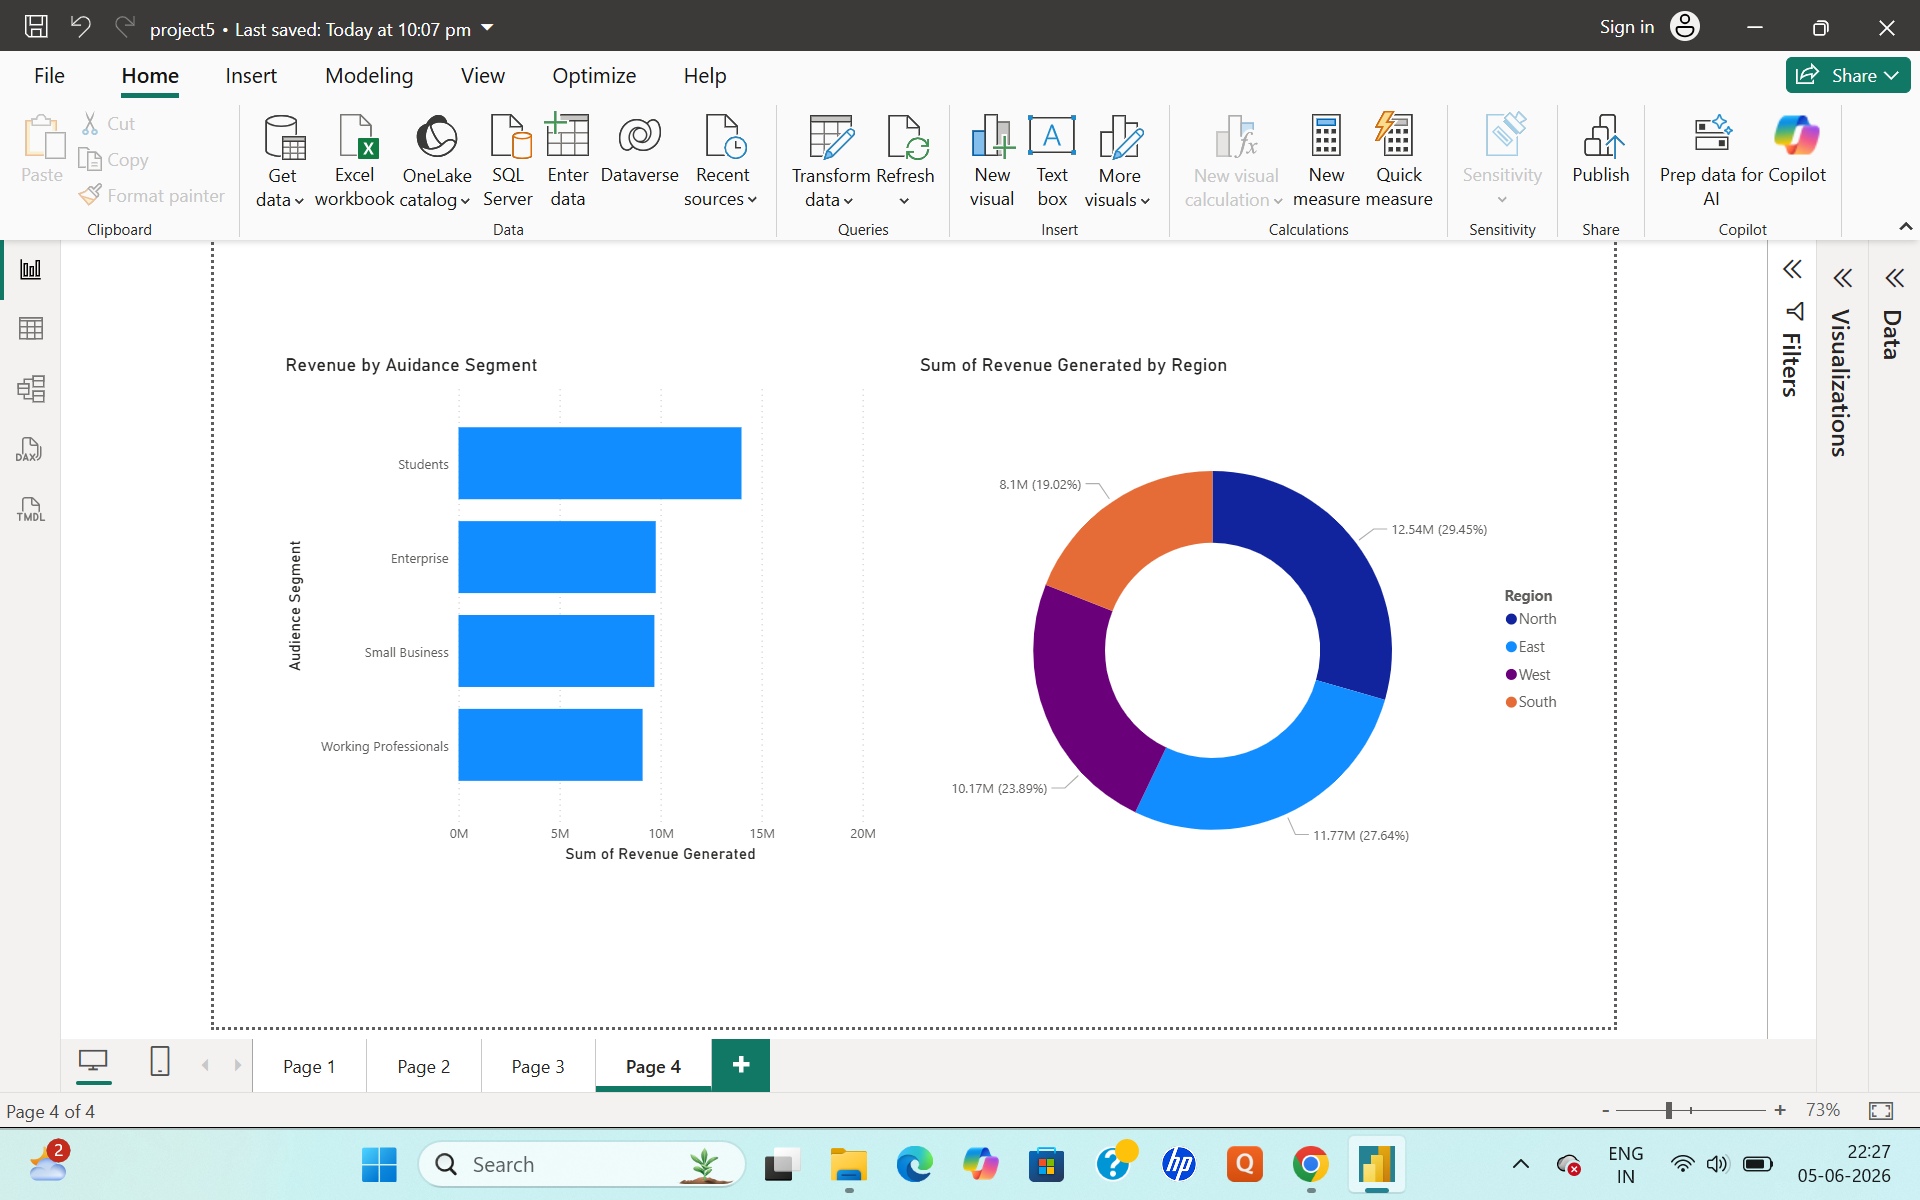

The page's visual inventory and layout, read from the dashboard file:
{"tool":"powerbi","page":{"name":"Page 4","canvas":[1280,720],"ordinal":3},"visuals":[{"type":"barChart","title":"Revenue by Auidance Segment","fields":{"Category":["Marketing_Campaign_Cleaned.Audience Segment"],"Y":["Sum(Marketing_Campaign_Cleaned.Revenue Generated)"]},"box":[60.6,104.5,549.7,469.4],"z":0},{"type":"donutChart","fields":{"Category":["Marketing_Campaign_Cleaned.Region"],"Y":["Sum(Marketing_Campaign_Cleaned.Revenue Generated)"]},"box":[640.5,104.5,608.7,522.4],"z":1}]}

Visuals, with their boxes on the page's 1280x720 design canvas (x1, y1, x2, y2). These are canvas units, not pixel positions in the 1920x1200 screenshot, which may show the page scaled, cropped or inside an application window:
"Revenue by Auidance Segment" barChart: 61:104:610:574
donutChart - Marketing_Campaign_Cleaned.Region x Sum(Marketing_Campaign_Cleaned.Revenue Generated): 640:104:1249:627
